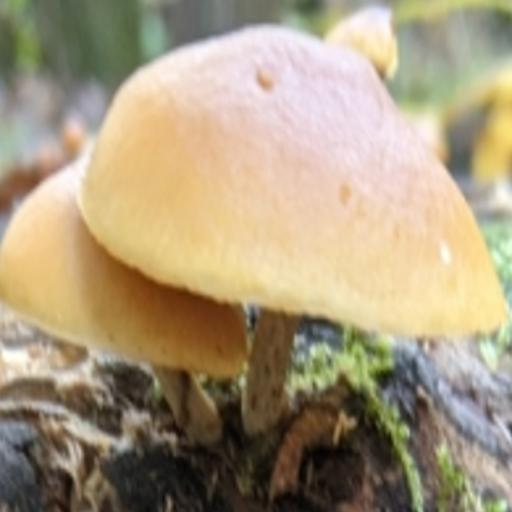mushroom: (4, 30, 512, 425)
